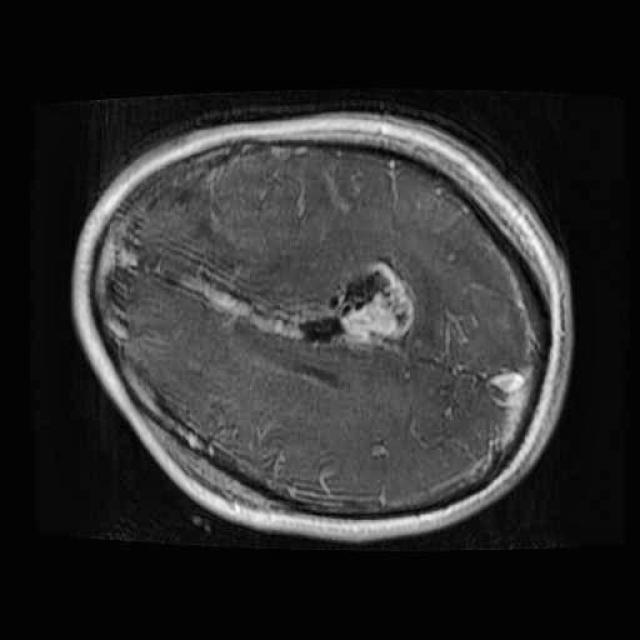Non-Tumor: (292, 246, 421, 361)
